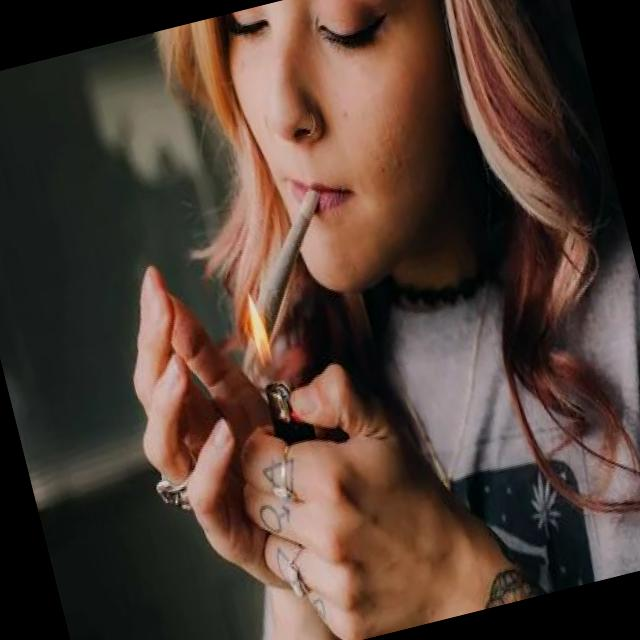cigarette: (216, 181, 355, 365)
